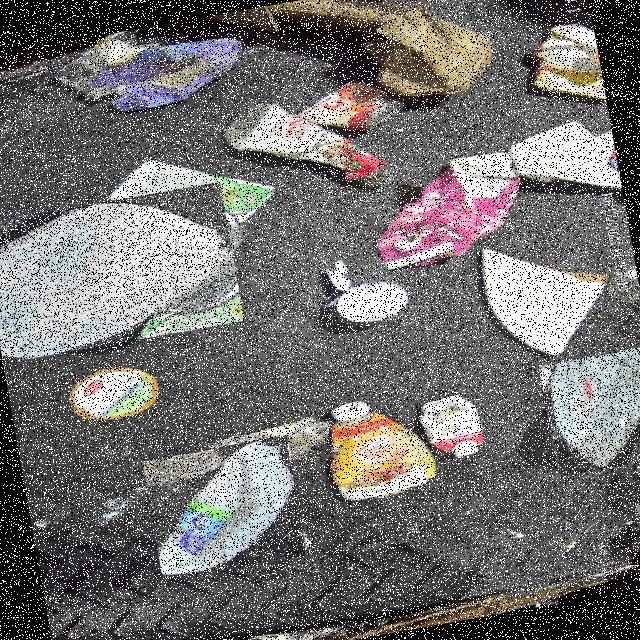milk-jug: (0, 180, 244, 361), (142, 434, 308, 580), (539, 344, 640, 476)
